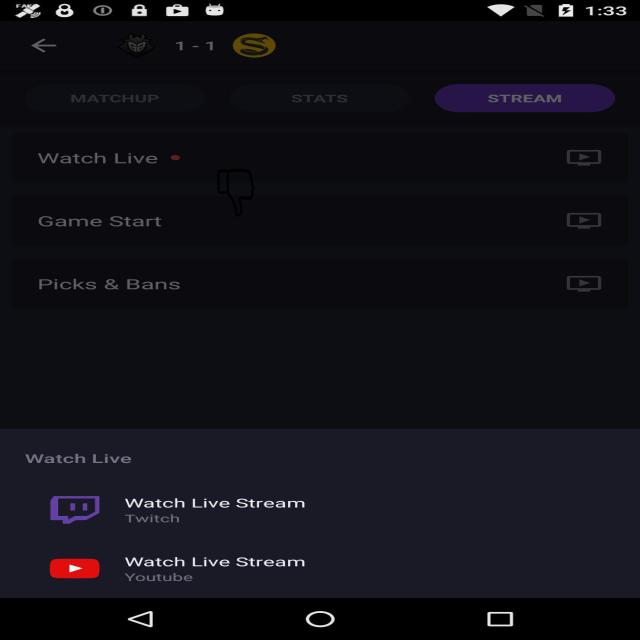obstruction: (217, 169, 255, 217)
